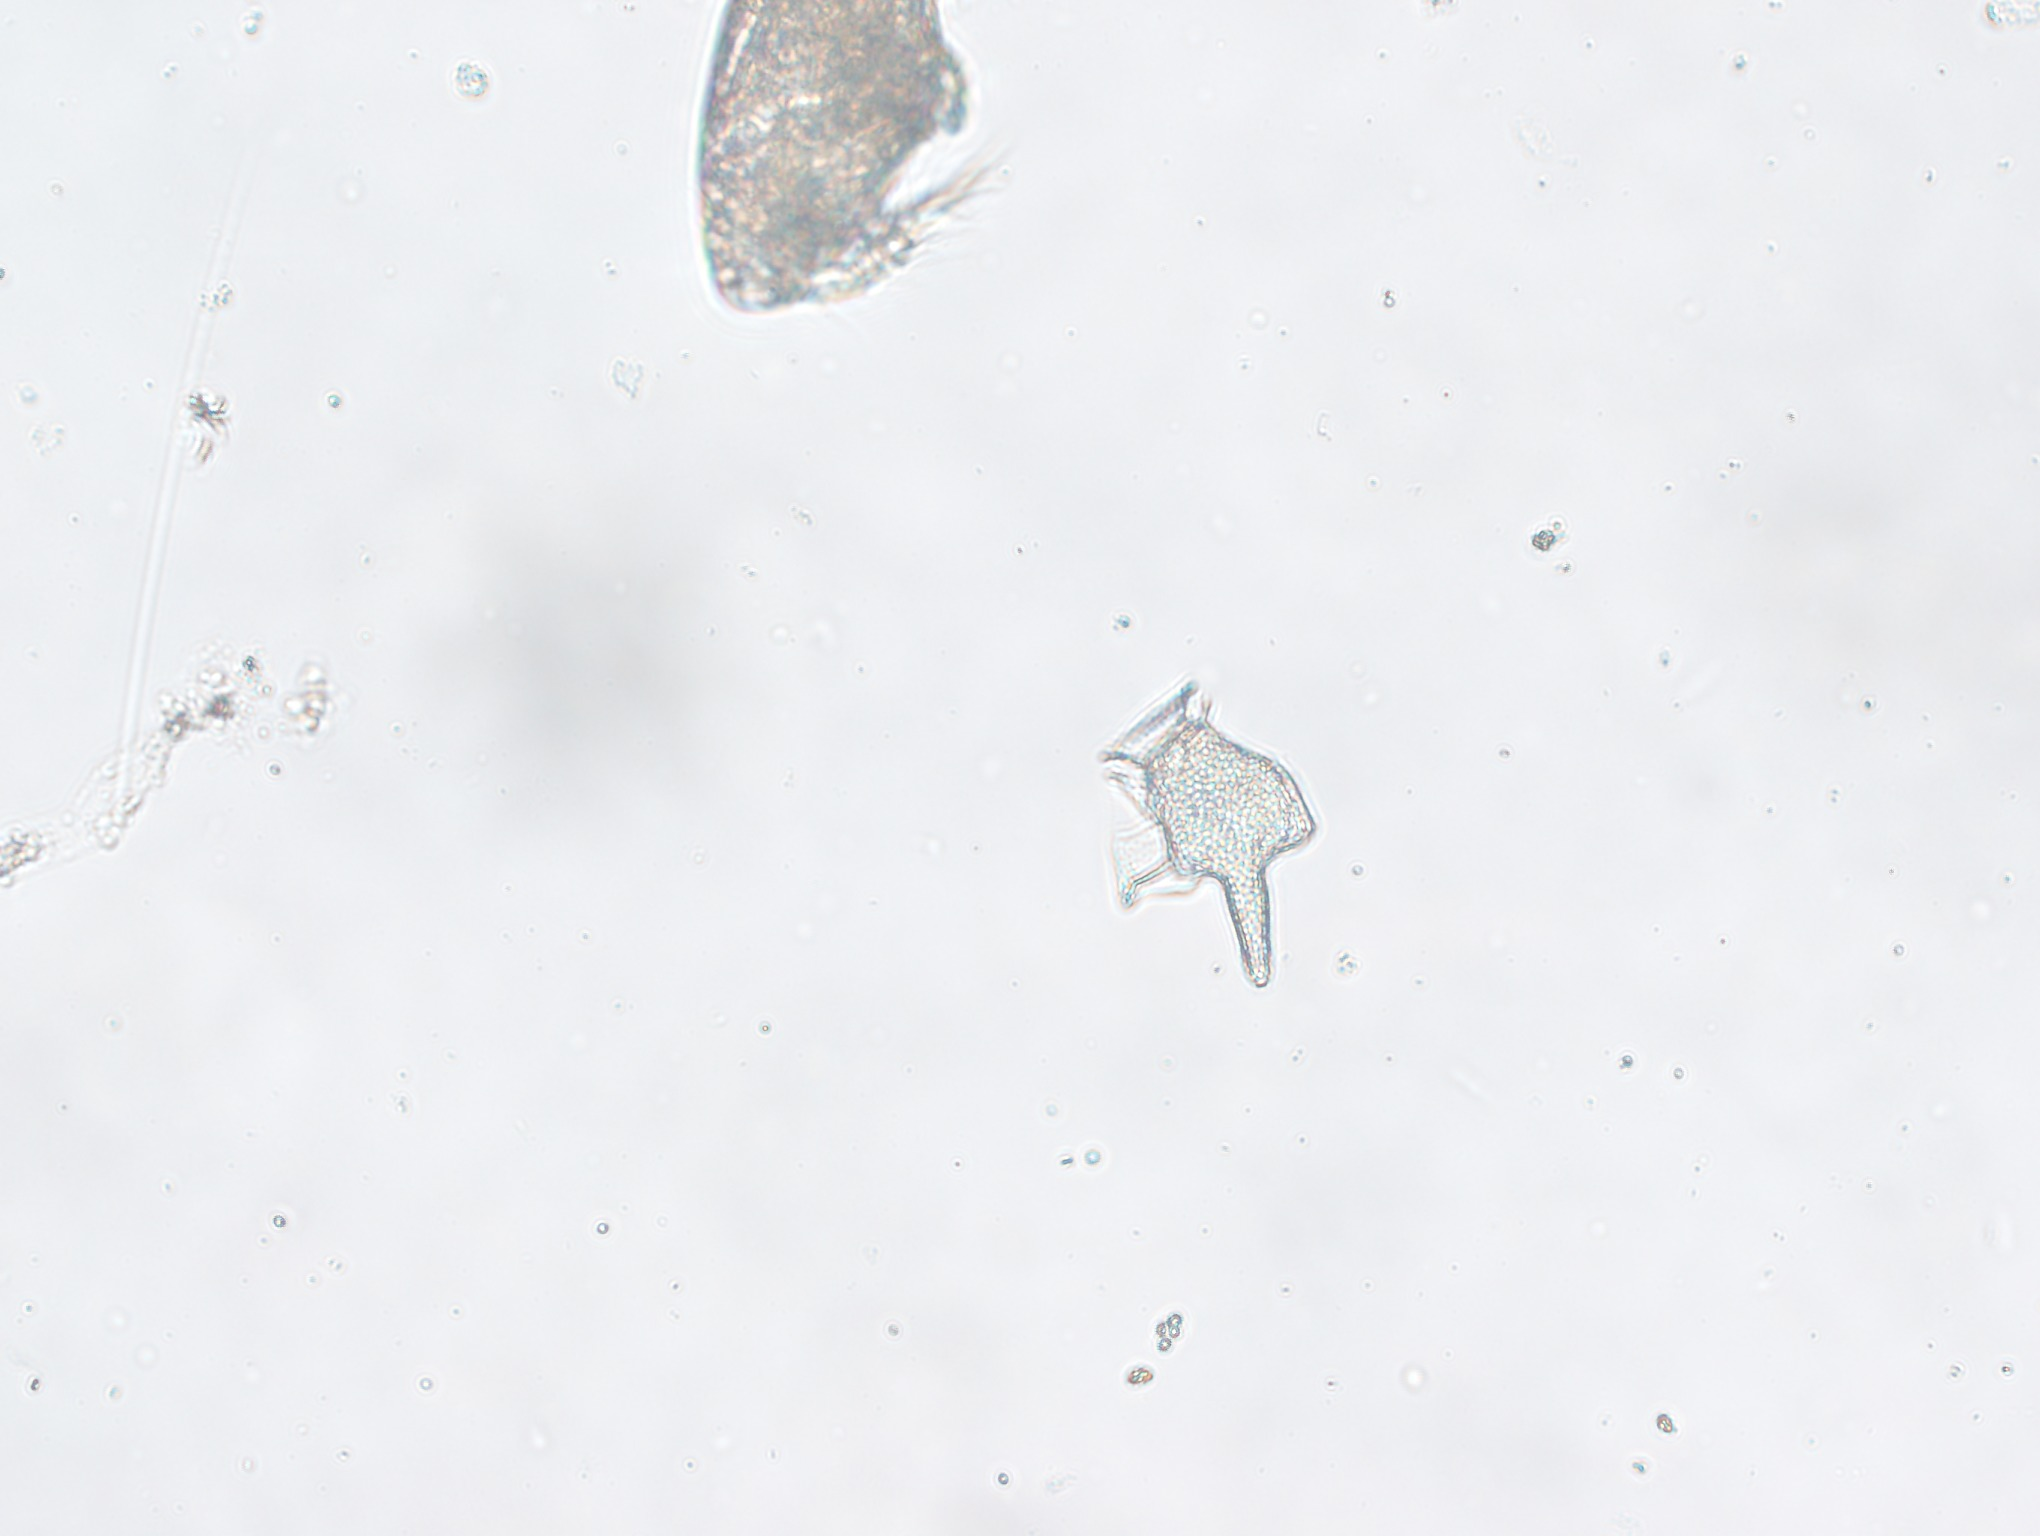dinophysis caudata: (1066, 666, 1338, 992)
